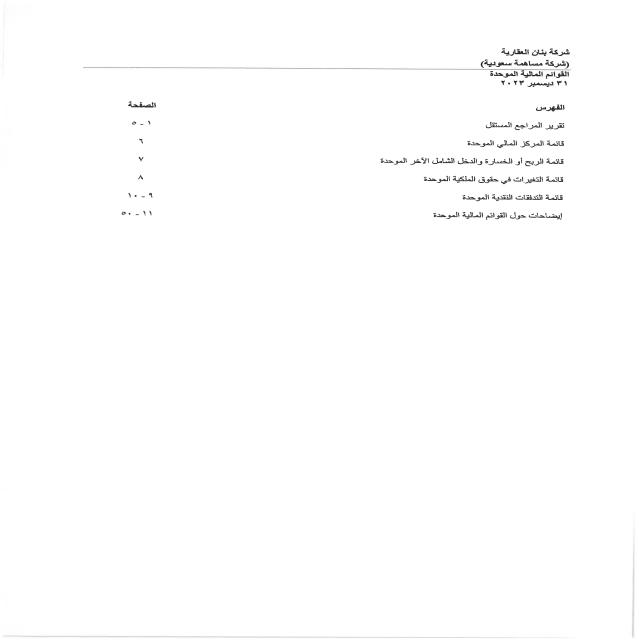other: (83, 92, 577, 236)
